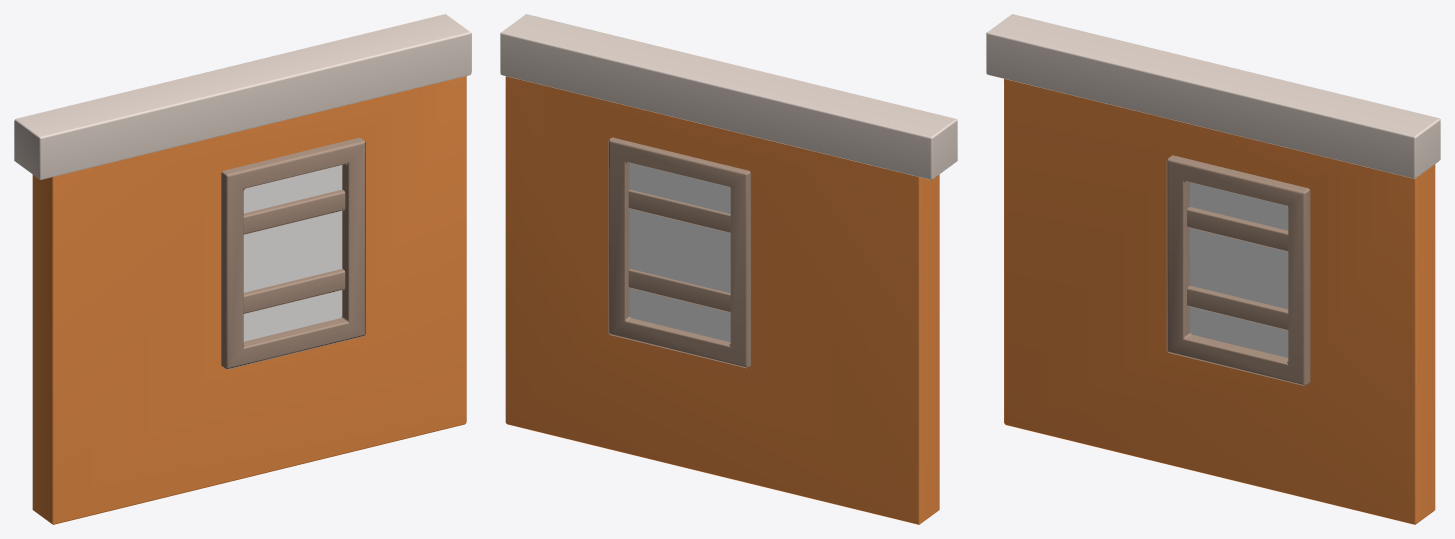
Rendered from Wall_33.glb.
3 views of the same model, side by side, from view 1: azimuth 30°, elevation 25°; view 2: azimuth 150°, elevation 25°; view 3: azimuth 330°, elevation 25° (orthographic).
Parts seen in each view (by area): view 1: Wall_33; view 2: Wall_33; view 3: Wall_33.
Part boxes in pixels (x1,y1,x2,y2): Wall_33: (14,14,471,524); Wall_33: (500,14,957,524); Wall_33: (986,14,1440,524).
Size of the model in its own units: 4.79 by 4.17 by 0.5595.
2 materials, 2 textured.
